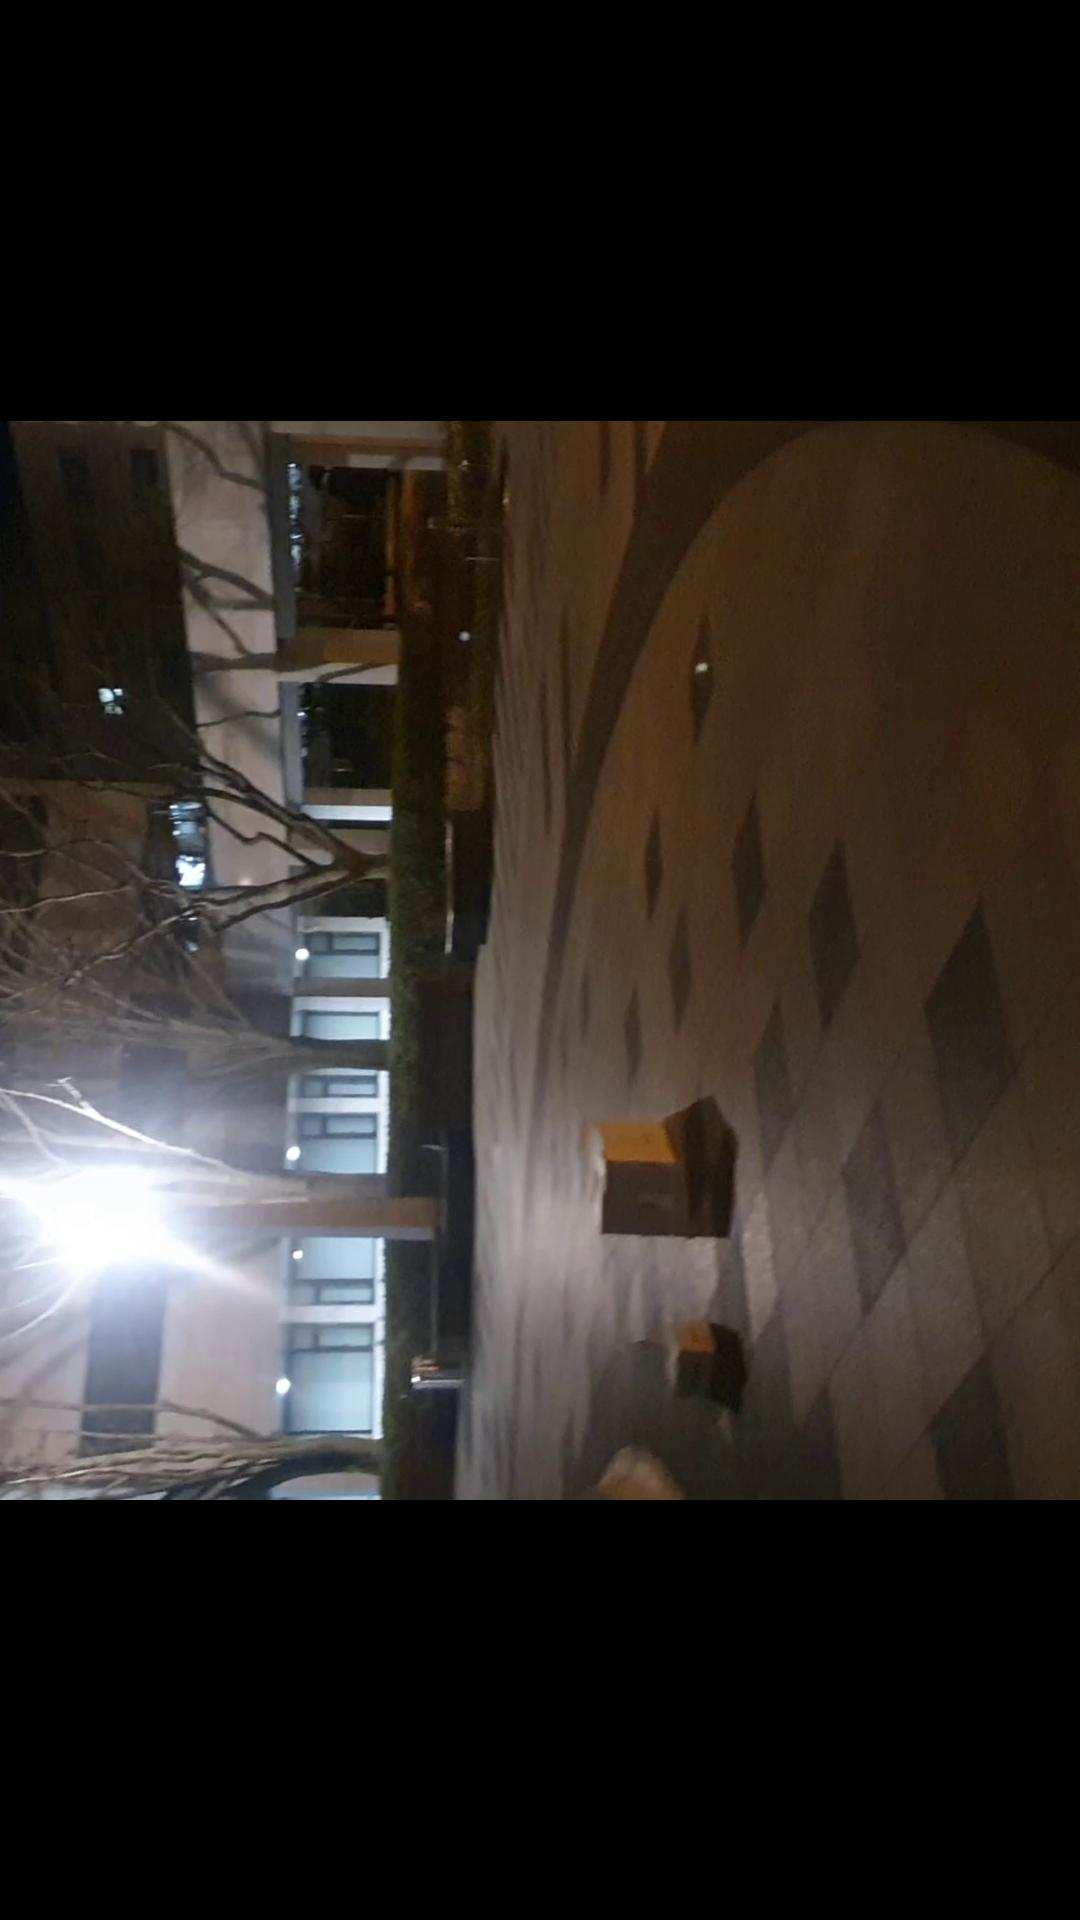Box: (580, 1120, 702, 1240), (655, 1300, 737, 1418)
